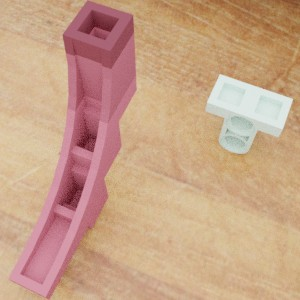lego: (7, 0, 136, 300), (205, 74, 292, 153)
